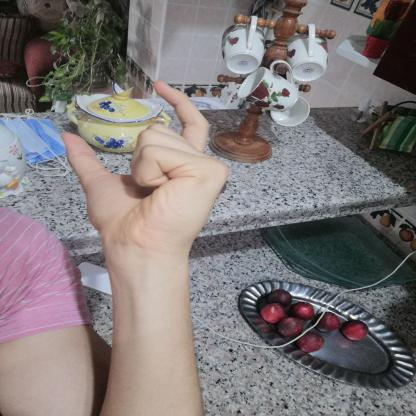NOON: (48, 69, 246, 272)
